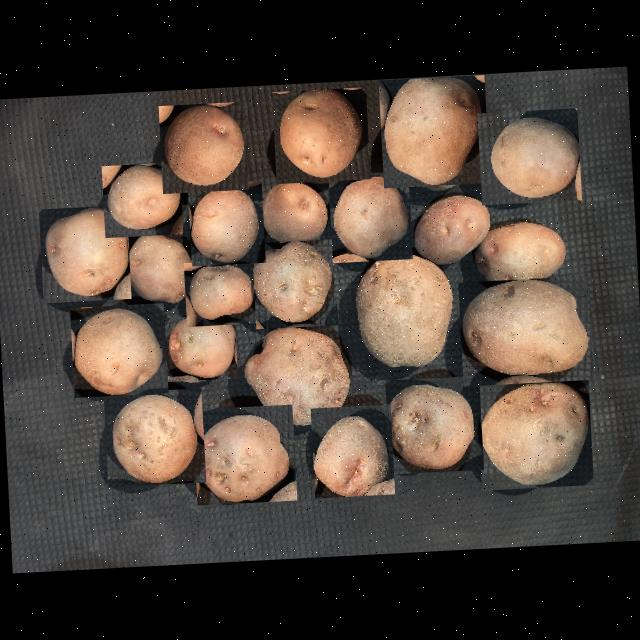Diseased-fungal potato: (458, 276, 594, 386), (350, 247, 460, 368), (477, 379, 594, 491), (378, 75, 491, 188), (238, 321, 352, 428), (192, 404, 298, 506), (104, 388, 206, 488), (477, 108, 582, 205), (385, 376, 484, 474), (272, 87, 371, 184), (70, 303, 169, 398), (38, 205, 132, 303), (159, 102, 249, 194), (310, 404, 396, 498), (252, 240, 338, 330), (328, 171, 412, 263), (472, 218, 576, 292), (408, 188, 498, 270), (188, 180, 266, 266), (102, 162, 184, 238), (122, 228, 196, 312), (161, 314, 238, 382), (184, 259, 261, 327), (257, 178, 334, 246)
